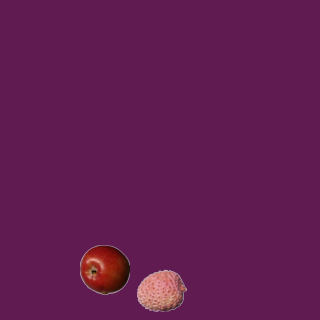Apple Braeburn: (79, 244, 129, 294)
Lychee: (136, 265, 186, 315)
